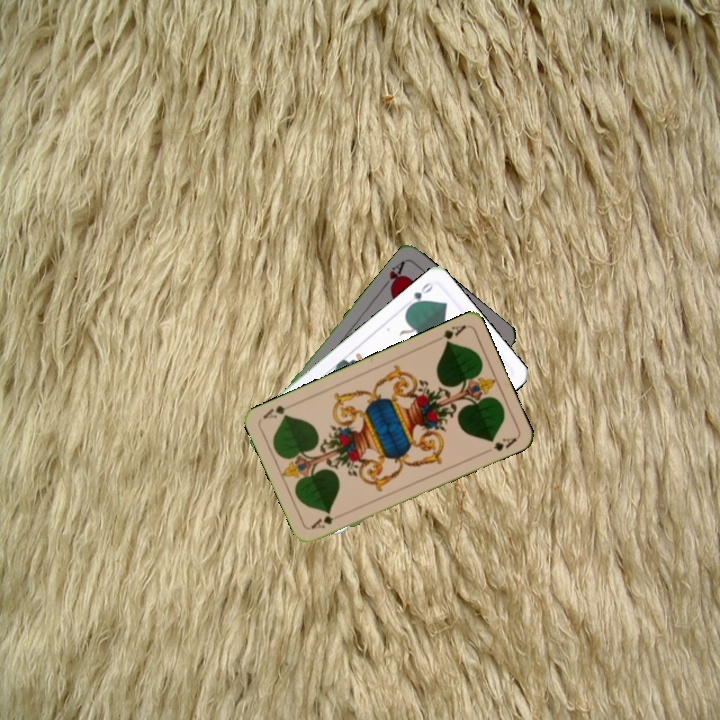GA: (439, 321, 468, 347), (307, 511, 336, 532)
GO: (404, 278, 437, 311)
HA: (378, 257, 408, 293)
